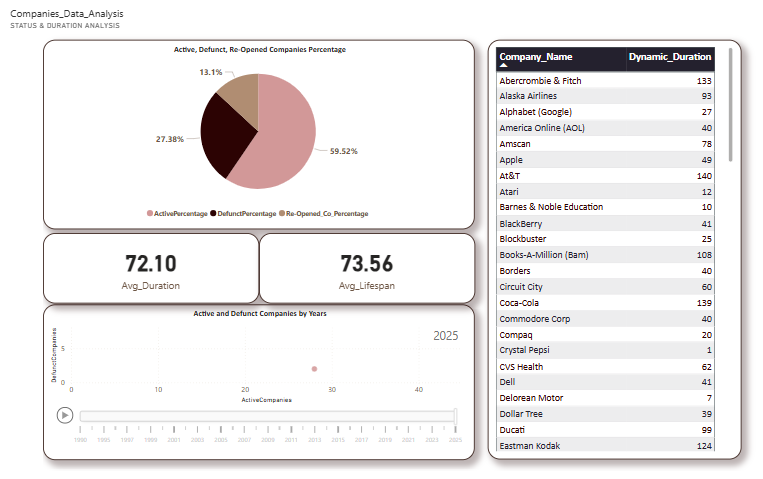

This screenshot's page, from the dashboard's own definition file:
{"tool":"powerbi","page":{"name":"Status & Duration Analysis","canvas":[1280,720],"ordinal":0},"visuals":[{"type":"pieChart","title":"Active, Defunct, Re-Opened Companies Percentage","fields":{"Y":["companies_mergedData.ActivePercentage","companies_mergedData.DefunctPercentage","companies_mergedData.Re-Opened_Co_Percentage"]},"box":[0,14.5,707,309.9],"z":0},{"type":"scatterChart","title":"Active and Defunct Companies by Years","fields":{"Play":["companies_mergedData.Years"],"X":["companies_mergedData.ActiveCompanies"],"Y":["companies_mergedData.DefunctCompanies"],"Size":["Count(companies_mergedData.Industries)"]},"box":[0,448.1,706.6,253.9],"z":1000},{"type":"card","fields":{"Values":["companies_mergedData.Avg_Duration"]},"box":[0,330.9,353.5,116.2],"z":2000},{"type":"tableEx","fields":{"Values":["companies_mergedData.Company_Name","companies_mergedData.Dynamic_Duration"]},"box":[727.5,14.9,403.3,687.1],"z":3000},{"type":"card","fields":{"Values":["companies_mergedData.Avg_Lifespan"]},"box":[353.5,330.9,353.5,116.2],"z":4000}]}

Visuals, with their boxes on the page's 1280x720 design canvas (x1, y1, x2, y2). These are canvas units, not pixel positions in the 763x479 screenshot, which may show the page scaled, cropped or inside an application window:
"Active, Defunct, Re-Opened Companies Percentage" pieChart: <region>0, 14, 707, 324</region>
"Active and Defunct Companies by Years" scatterChart: <region>0, 448, 707, 702</region>
card - companies_mergedData.Avg_Duration: <region>0, 331, 354, 447</region>
tableEx - companies_mergedData.Company_Name x companies_mergedData.Dynamic_Duration: <region>728, 15, 1131, 702</region>
card - companies_mergedData.Avg_Lifespan: <region>354, 331, 707, 447</region>
